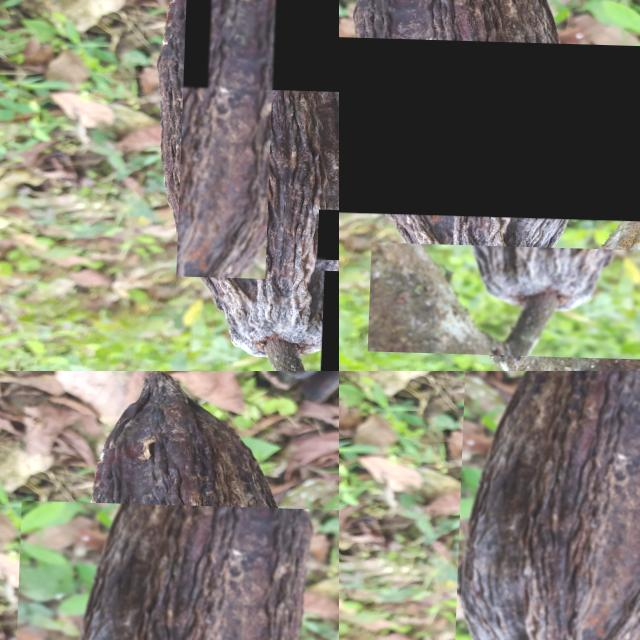Fitoftora: (456, 371, 640, 640), (11, 499, 339, 640), (179, 0, 277, 277), (320, 207, 339, 259)
Monilia: (371, 240, 640, 356)
Sana: (339, 34, 640, 221), (248, 0, 339, 90), (323, 268, 339, 371)
